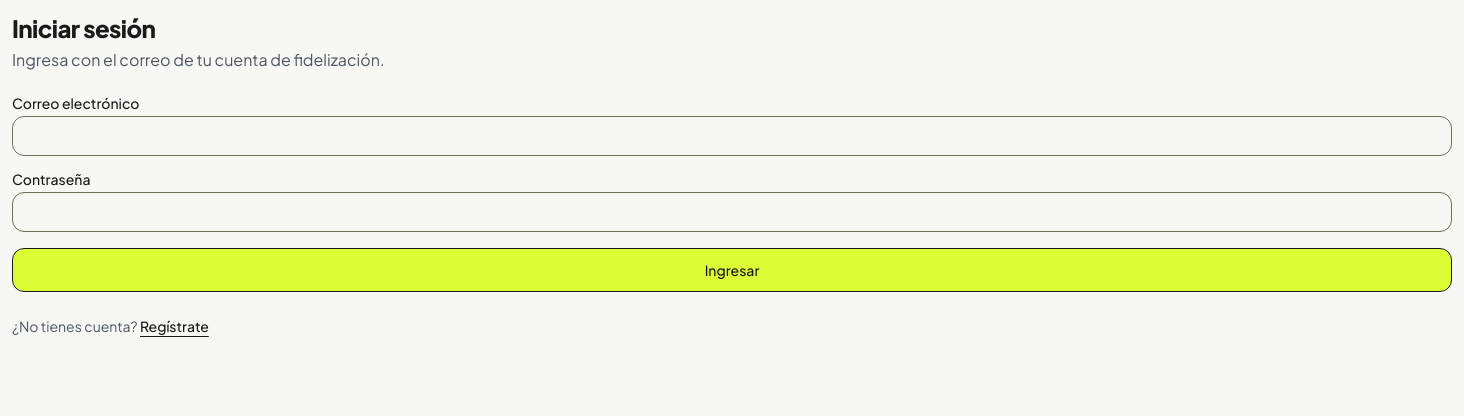
Scenario: F1-FE-01 · ingreso de cliente (UI-02) › credenciales incorrectas → mensaje genérico que no revela si la cuenta existe
This screenshot has width=1464, height=416.
Step 1. Type "cliente.zontes@ejemplo.test" into the field labelled "Correo electrónico" → (732, 136), box [12,116,1452,156]
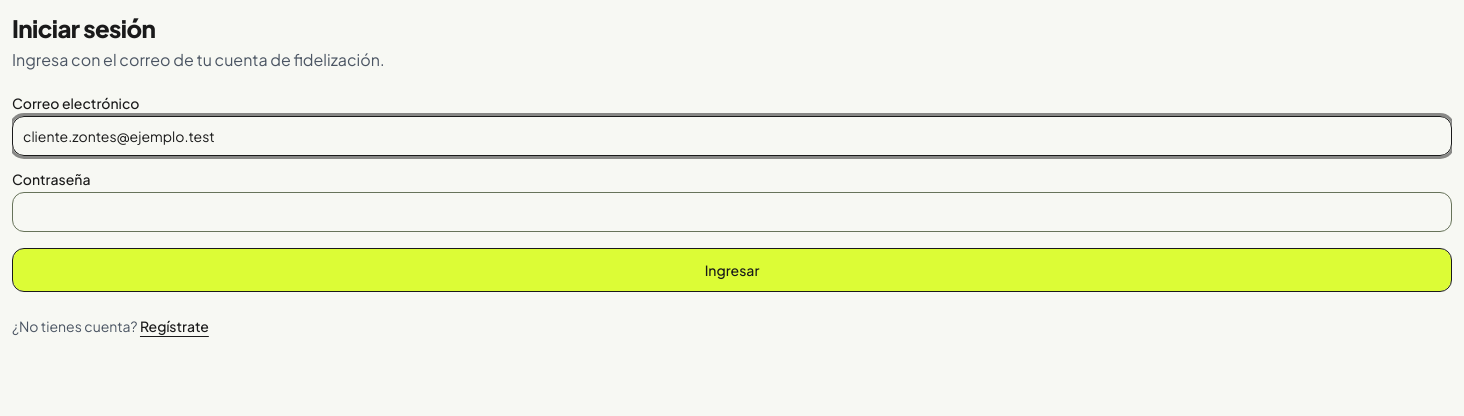
Step 2. Type "secreta1" into the password field labelled "Contraseña" → (732, 212), box [12,192,1452,232]
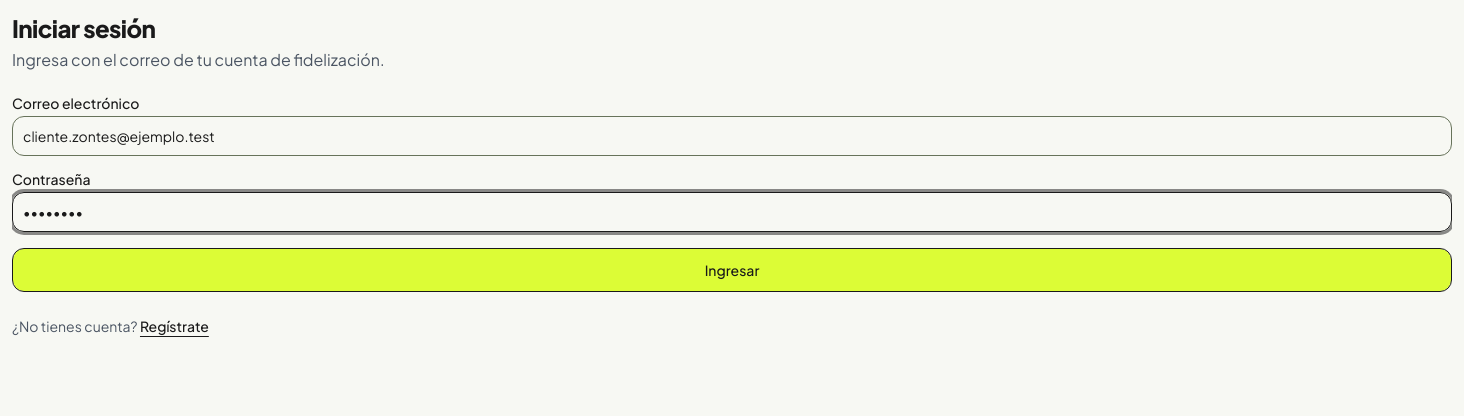
Step 3. Click the button "Ingresar" → click(732, 270), box [12,248,1452,292]
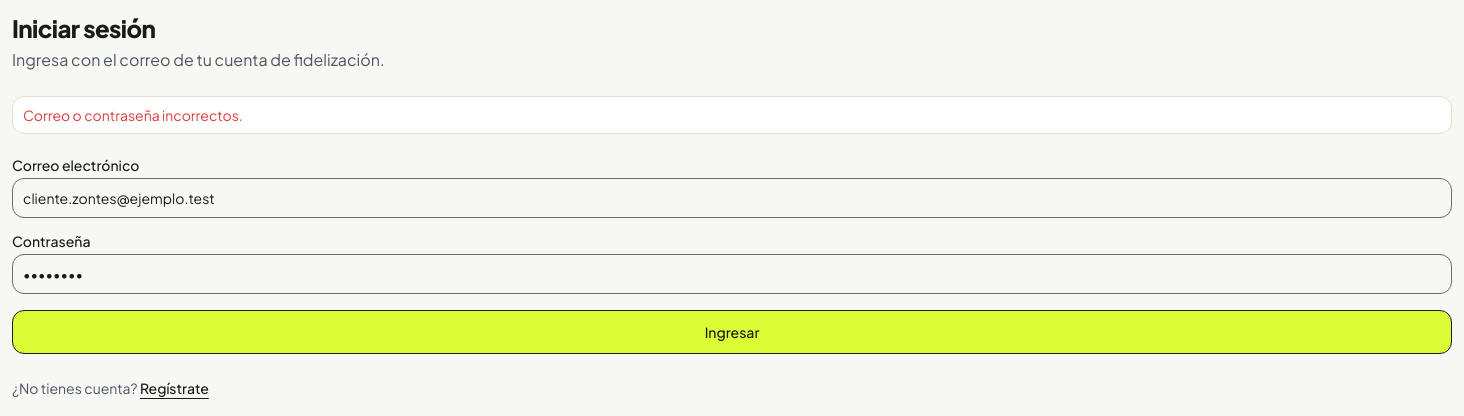
expect the message reads "Correo o contraseña incorrectos.": met, box [23,106,243,124]
